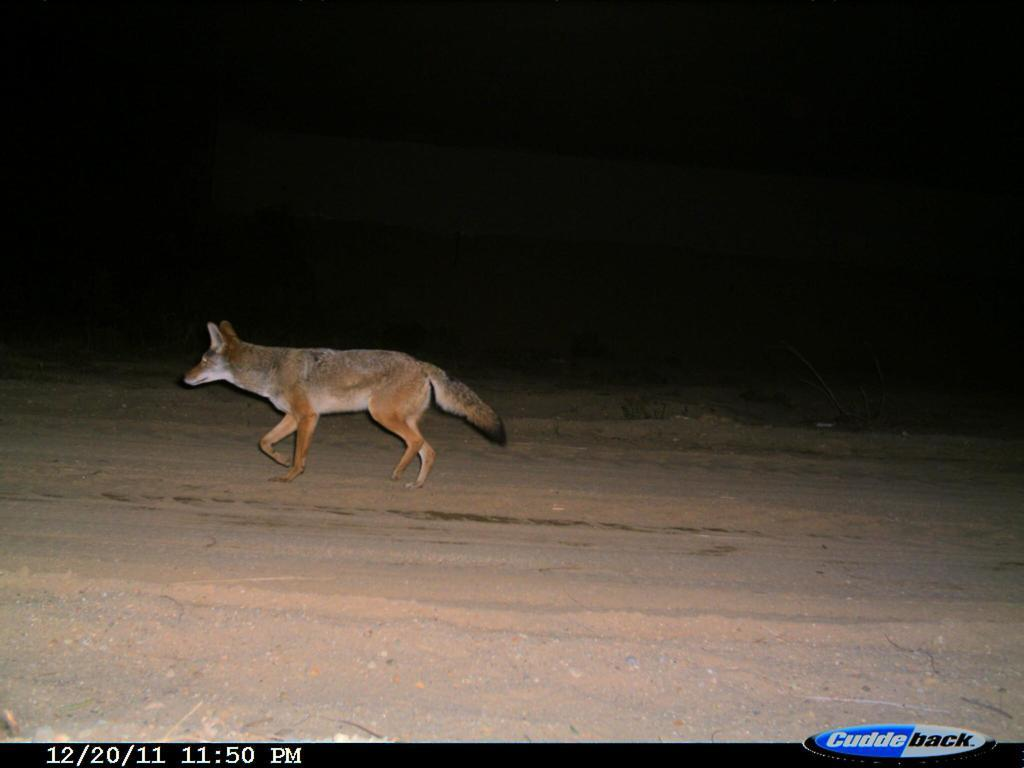coyote: (186, 319, 507, 496)
